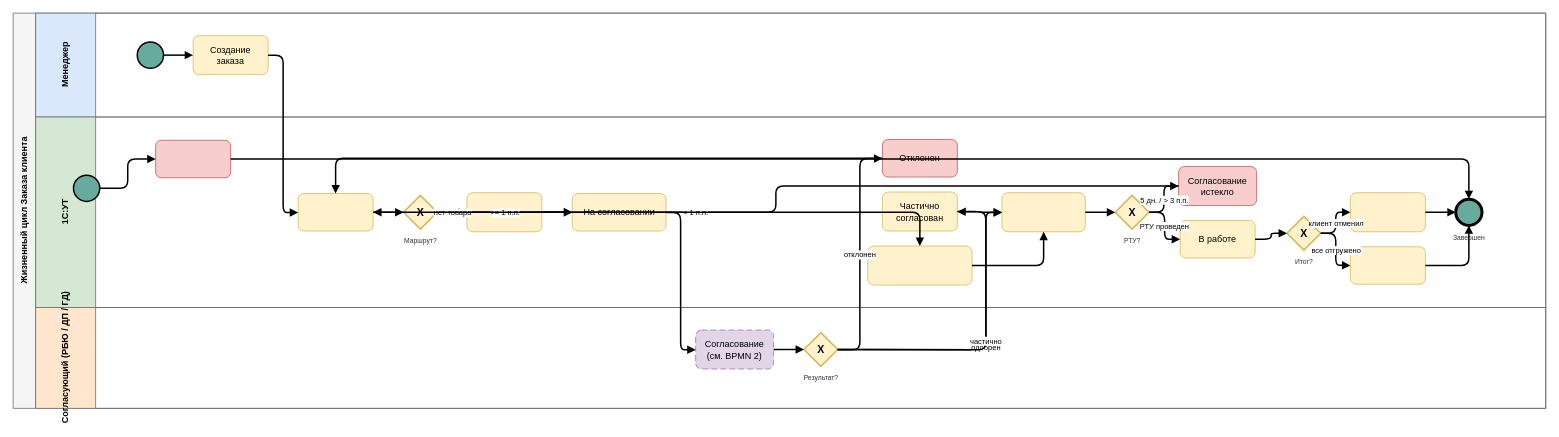
This 1559x437 diagram has some shape labels left out. The shapes that lost their labels are listed below. From the top down, each one's centre as x and y in pixels, then its label:
At (x=193, y=159): "Отменен".
At (x=335, y=212): "Черновик".
At (x=504, y=212): "Ожидает поступления".
At (x=1043, y=212): "Согласован (5 раб. дней)".
At (x=1387, y=212): "Закрыт частично".
At (x=919, y=265): "Авто-согласование (< 1 п.п.)".
At (x=1387, y=265): "Исполнен".
